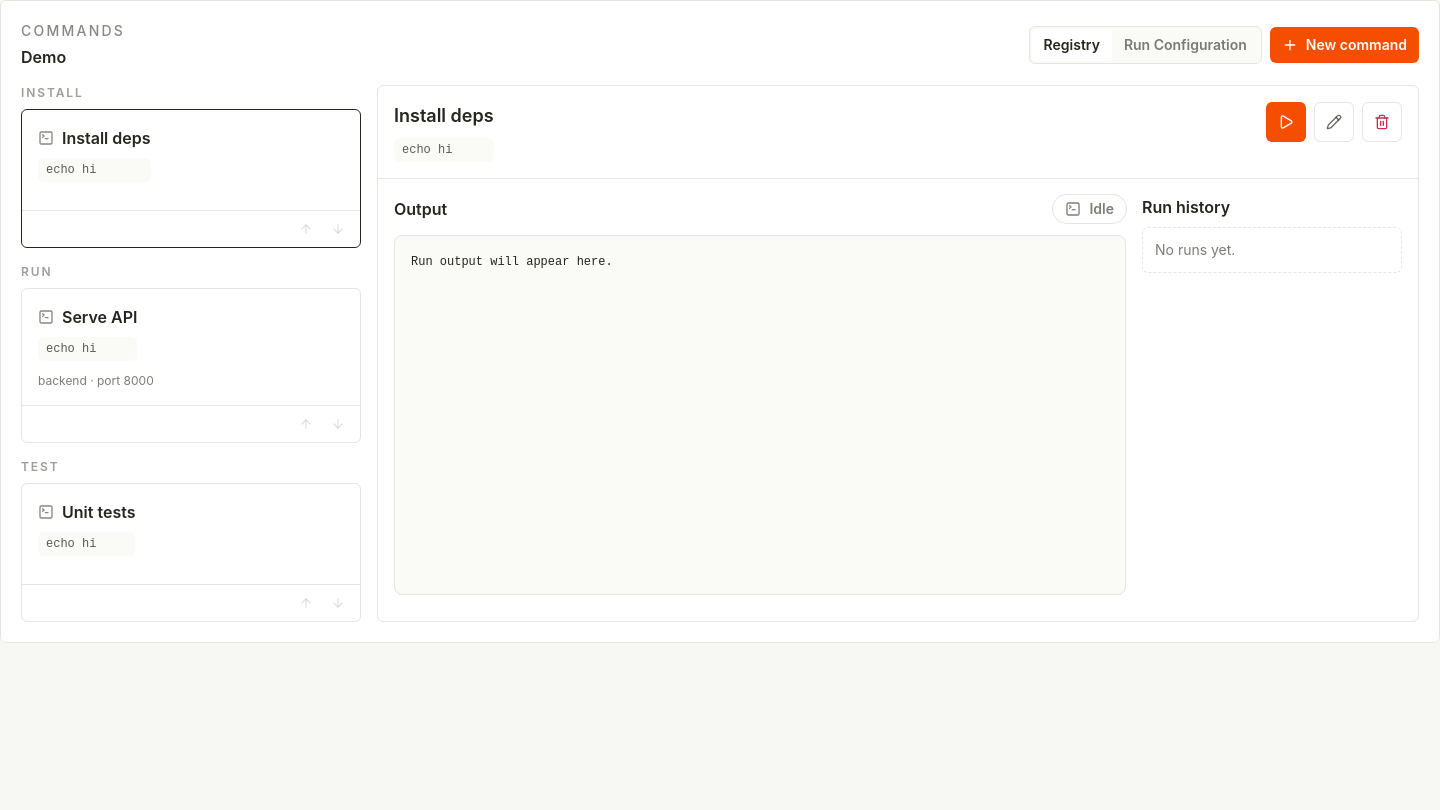
CustomCommandsPanel registry › disables Run command with a countdown when the command run is rate limited
Click the button named "Run command" at (1286, 122), box [1266,102,1306,142]
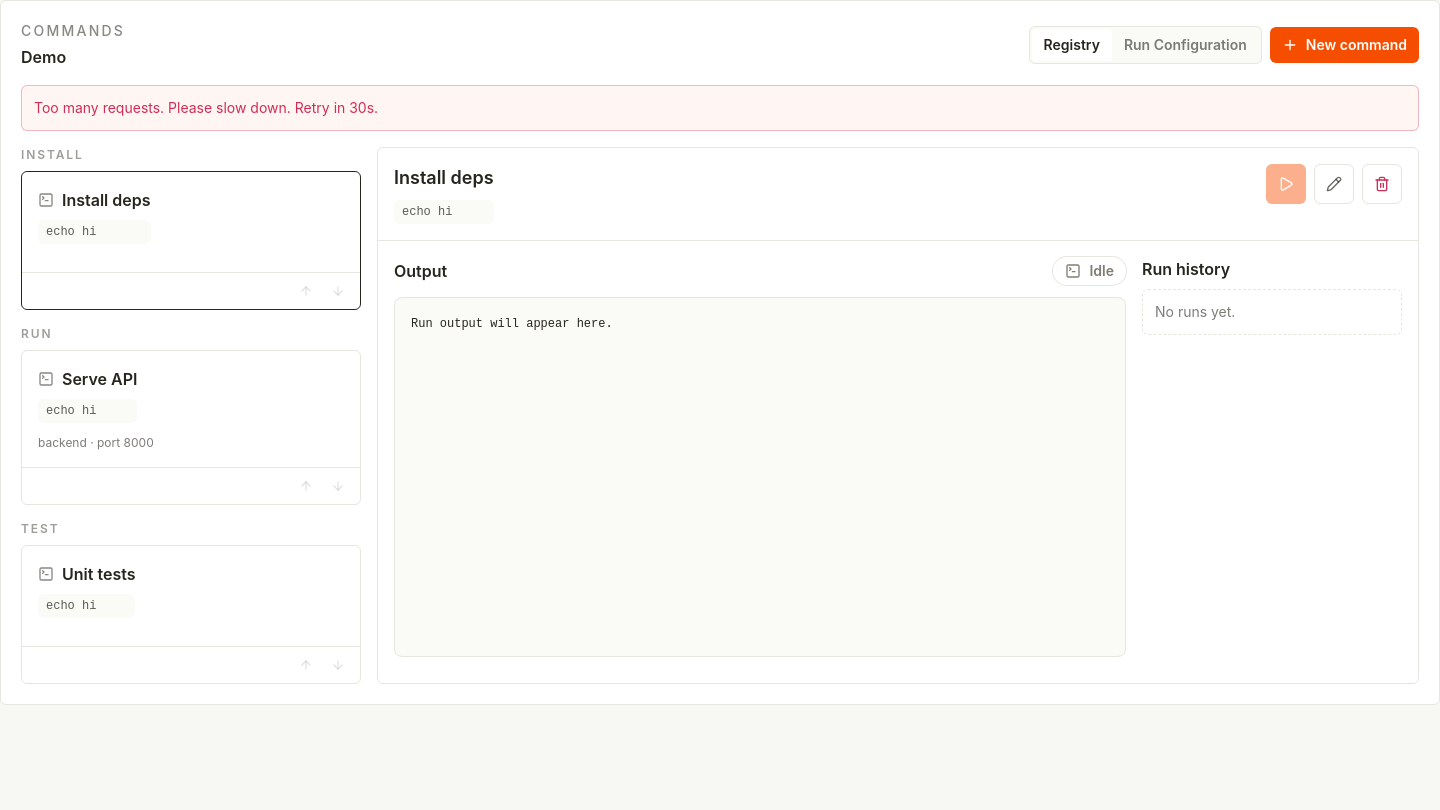
expect the text "Too many requests. Please slow down. Retry in 30s." is shown: met, box [21,85,1419,131]
expect the button named "Run command" is disabled: met, box [1266,164,1306,204]
